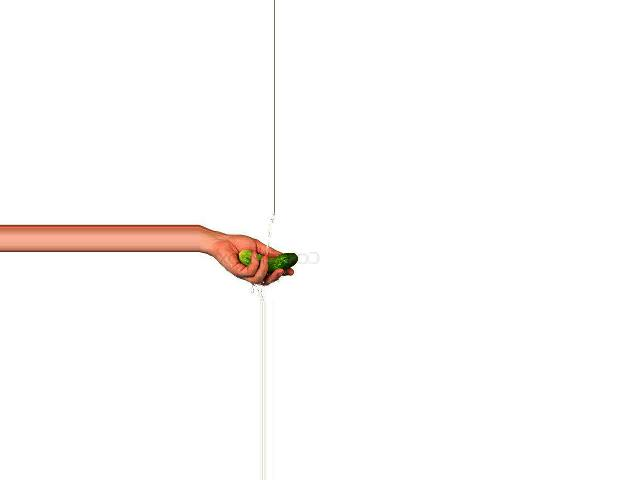cucumber: (238, 250, 297, 272)
